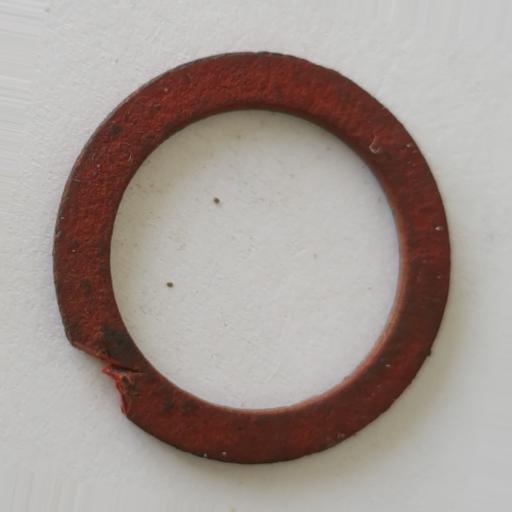defect: (69, 343, 144, 418)
